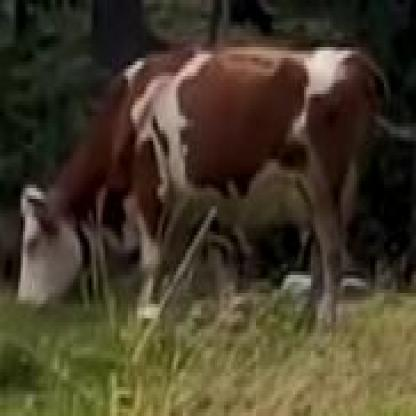cow: (20, 47, 388, 333)
